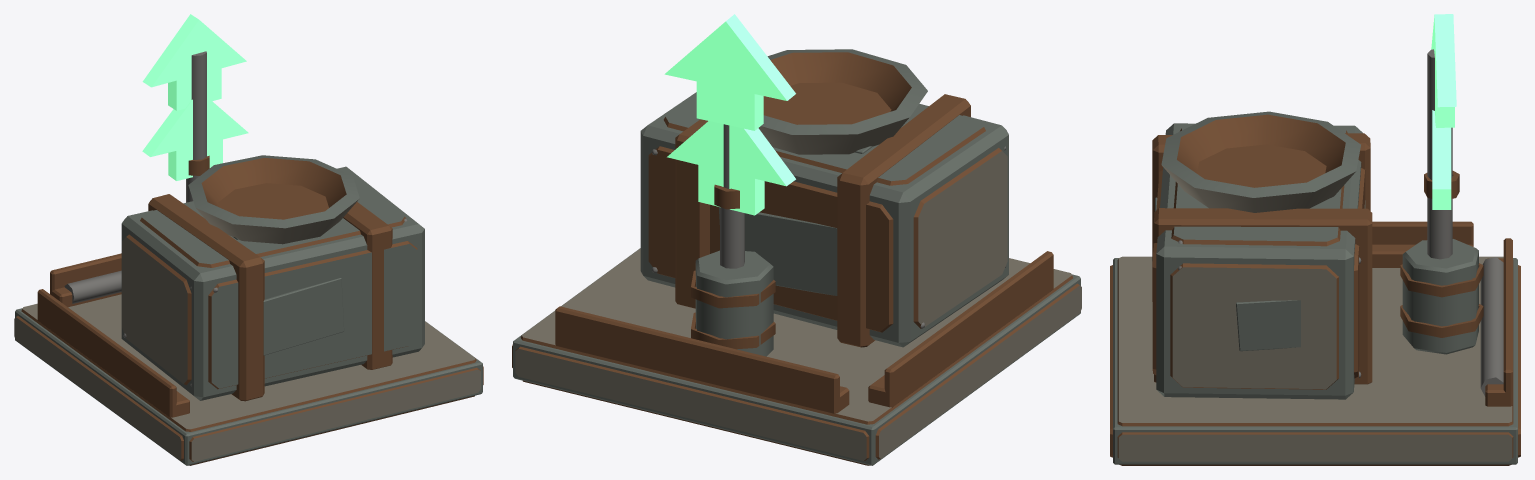
File: R4X_CargoUplink.fbx
3 views of the same model, side by side, from view 1: azimuth 30°, elevation 25°; view 2: azimuth 150°, elevation 25°; view 3: azimuth 270°, elevation 25° (orthographic). The views are drawn at different scales.
Parts seen in each view (by area): view 1: R4X_CargoUplink_Body; view 2: R4X_CargoUplink_Body; view 3: R4X_CargoUplink_Body.
Part boxes in pixels (left/top/right/bottom): R4X_CargoUplink_Body: left=14, top=14, right=483, bottom=465; R4X_CargoUplink_Body: left=512, top=14, right=1081, bottom=465; R4X_CargoUplink_Body: left=1110, top=14, right=1520, bottom=465.
Bounding box in the file's own units: 0.52 × 0.515 × 0.52.
